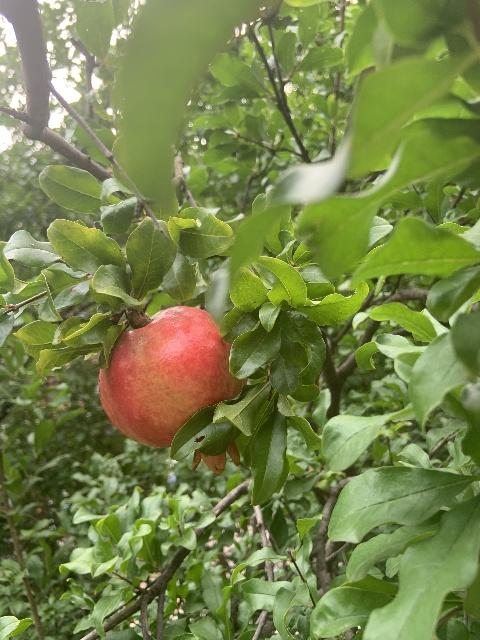ripe: (100, 304, 247, 476)
